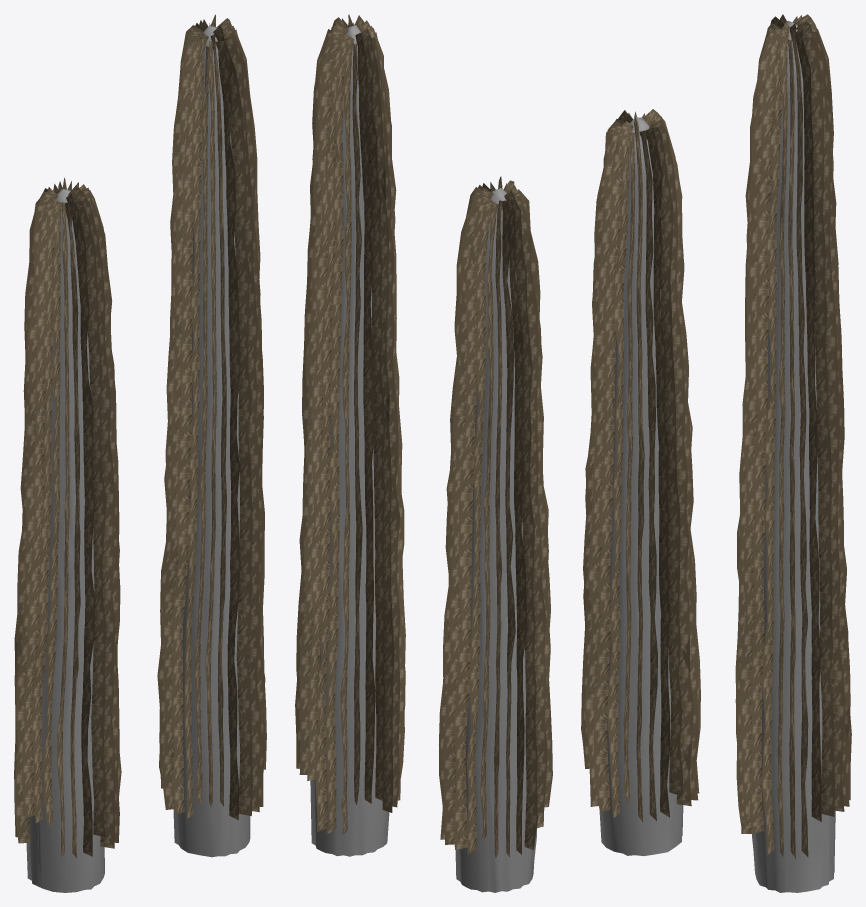
Rendered from Cactus_3.FBX.
3 views of the same model, side by side, from view 1: azimuth 30°, elevation 25°; view 2: azimuth 150°, elevation 25°; view 3: azimuth 330°, elevation 25° (orthographic). The views are drawn at different scales.
Visible parts, largest first — view 1: Cactus_3_LOD0; view 2: Cactus_3_LOD0; view 3: Cactus_3_LOD0.
Part boxes in pixels (left/top/right/bottom): Cactus_3_LOD0: left=14, top=14, right=266, bottom=892; Cactus_3_LOD0: left=295, top=14, right=552, bottom=892; Cactus_3_LOD0: left=581, top=14, right=851, bottom=892.
Size of what is drawn, in the model's own units: 9.01 by 29.26 by 3.61.
